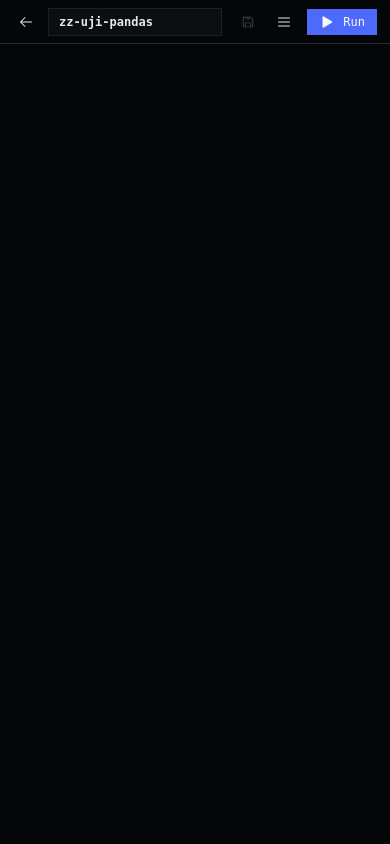
Test: the Setup popover › is reachable from the drawer too, which is the only route on a phone
Step 1. Click the button named "everything else" → (284, 22), box [270,8,298,36]
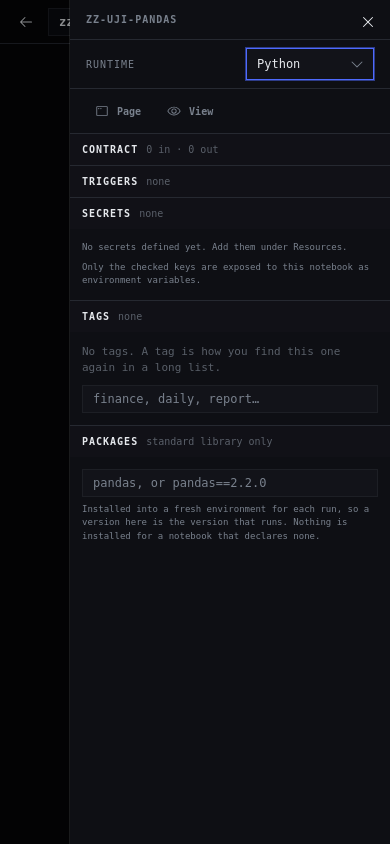
Result: the heading "Packages" is shown at [82,434,138,448]
Result: the heading "Tags" is shown at [82,308,110,324]
Result: the heading "Contract" is shown at [82,142,138,157]
